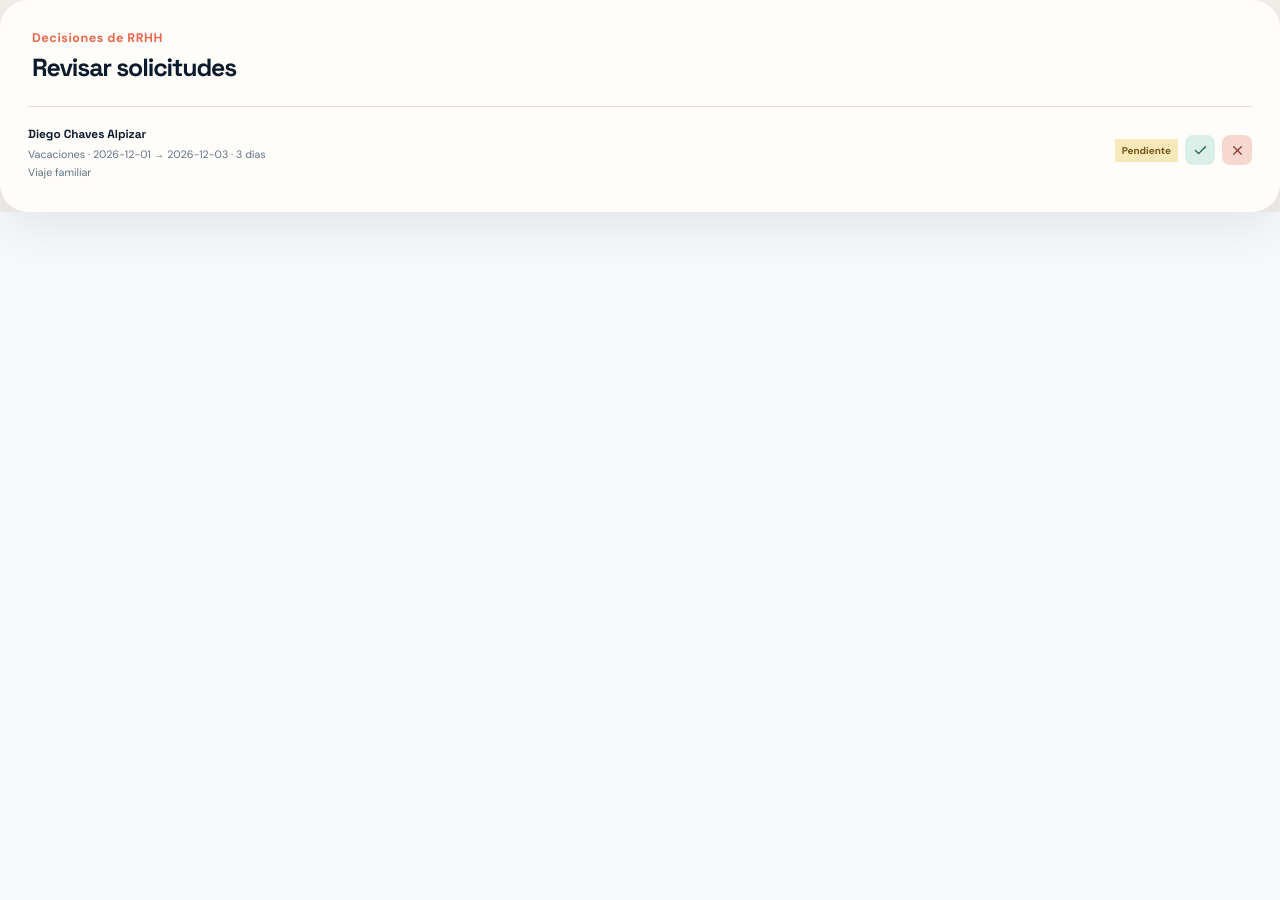
AttendanceMonitor y RequestReviewPanel › exige motivo de al menos 5 caracteres al rechazar una solicitud y lo envia en PATCH
Later steps or results of the test are not shown.
Click the button named "Rechazar 15": (1237, 150) [1222, 135, 1252, 165]
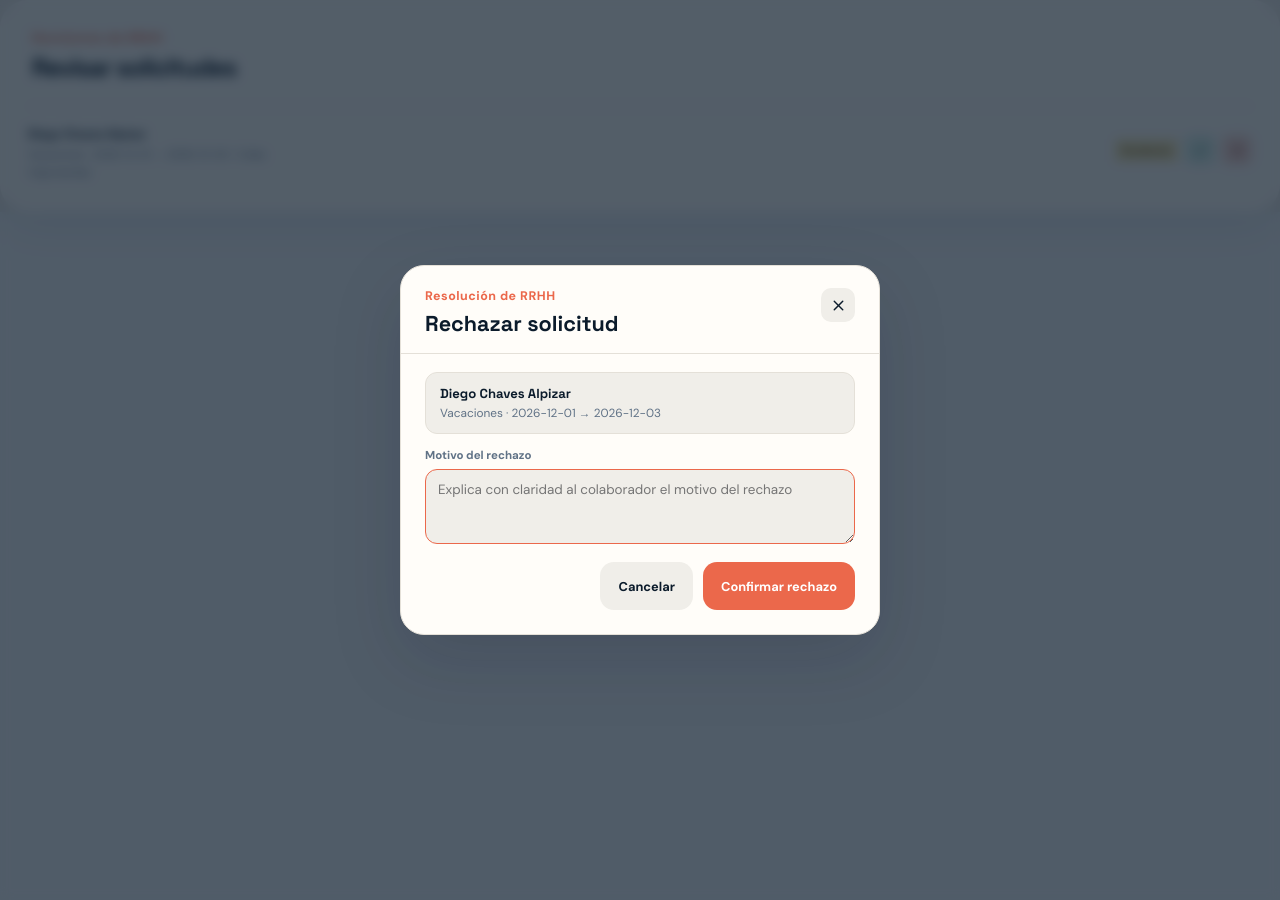
Check: the dialog is shown, box [400, 265, 880, 635]
In the text box labelled "Motivo del rechazo": (640, 506) [425, 469, 855, 544], type "No"
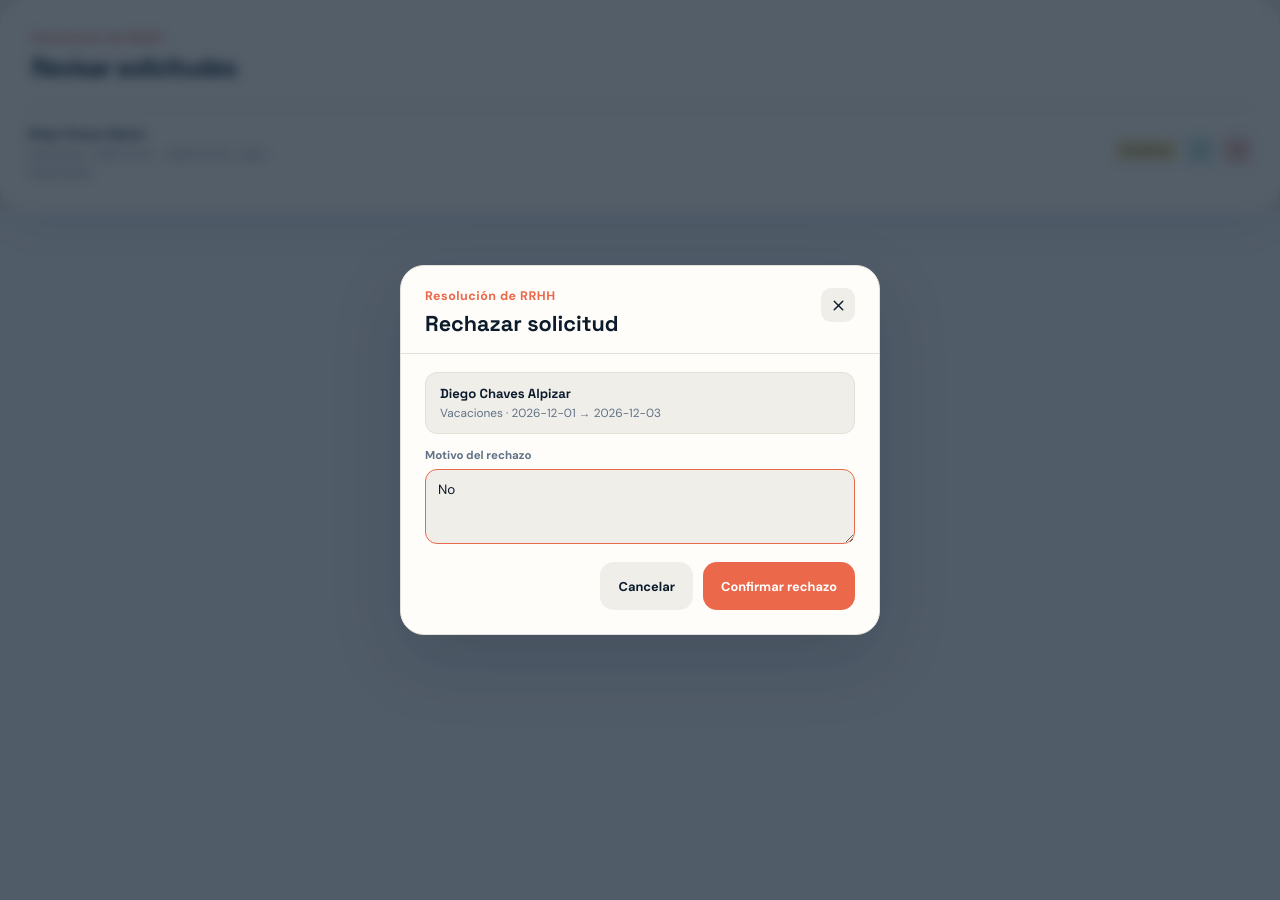
Click the button "Confirmar rechazo": (779, 586) [703, 562, 855, 610]
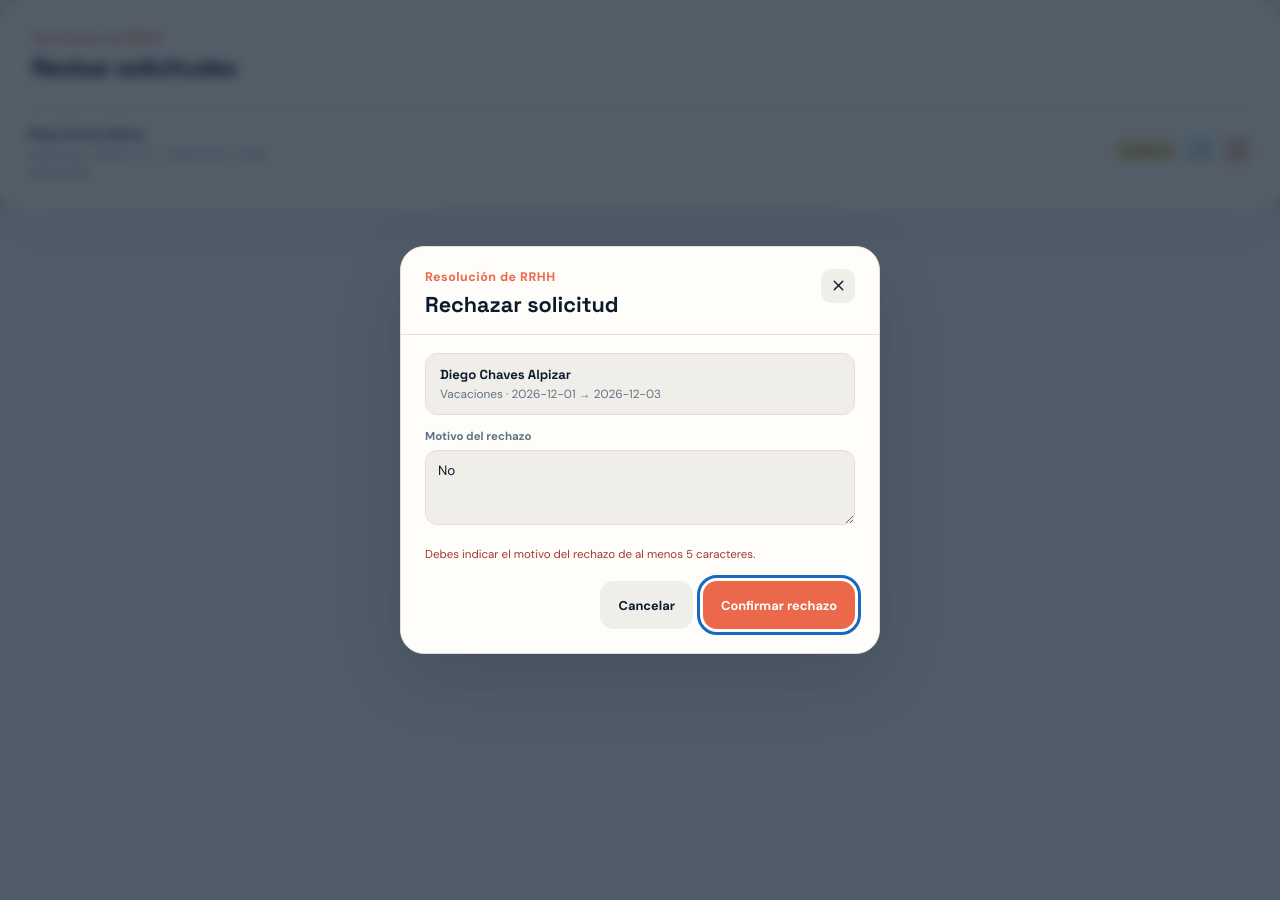
Check: the text "Debes indicar el motivo del rechazo de al menos 5 caracteres." is shown, box [425, 547, 755, 562]
